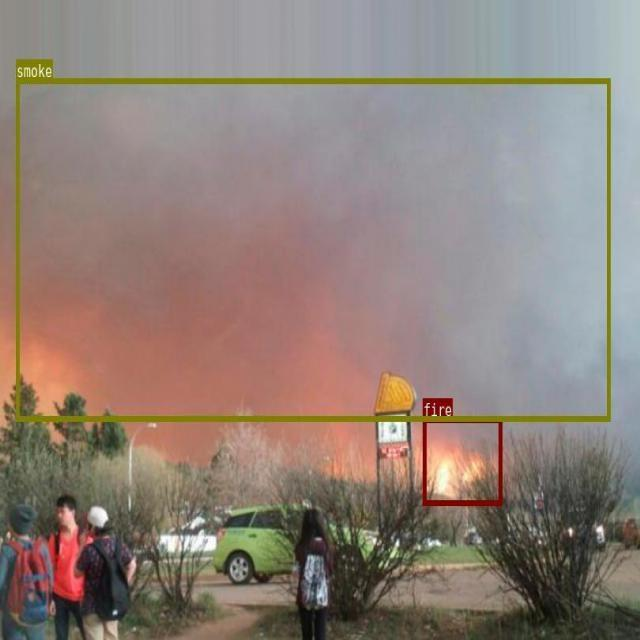fire: (422, 417, 501, 504)
smoke: (16, 77, 609, 421)
